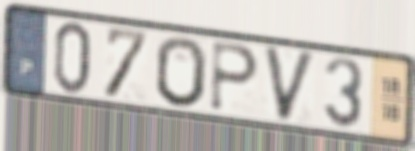0: (51, 20, 94, 97)
3: (323, 55, 364, 131)
7: (103, 25, 150, 100)
O: (154, 34, 209, 110)
P: (207, 39, 261, 115)
V: (261, 44, 319, 126)
